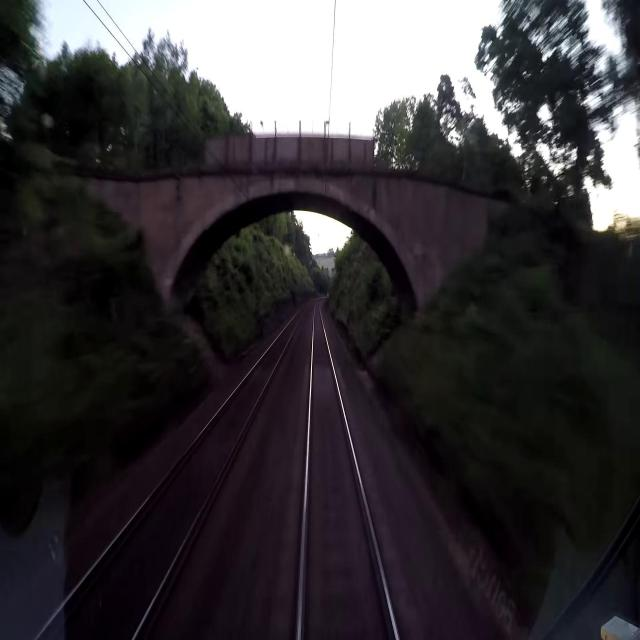rail-track: (301, 302, 395, 639)
